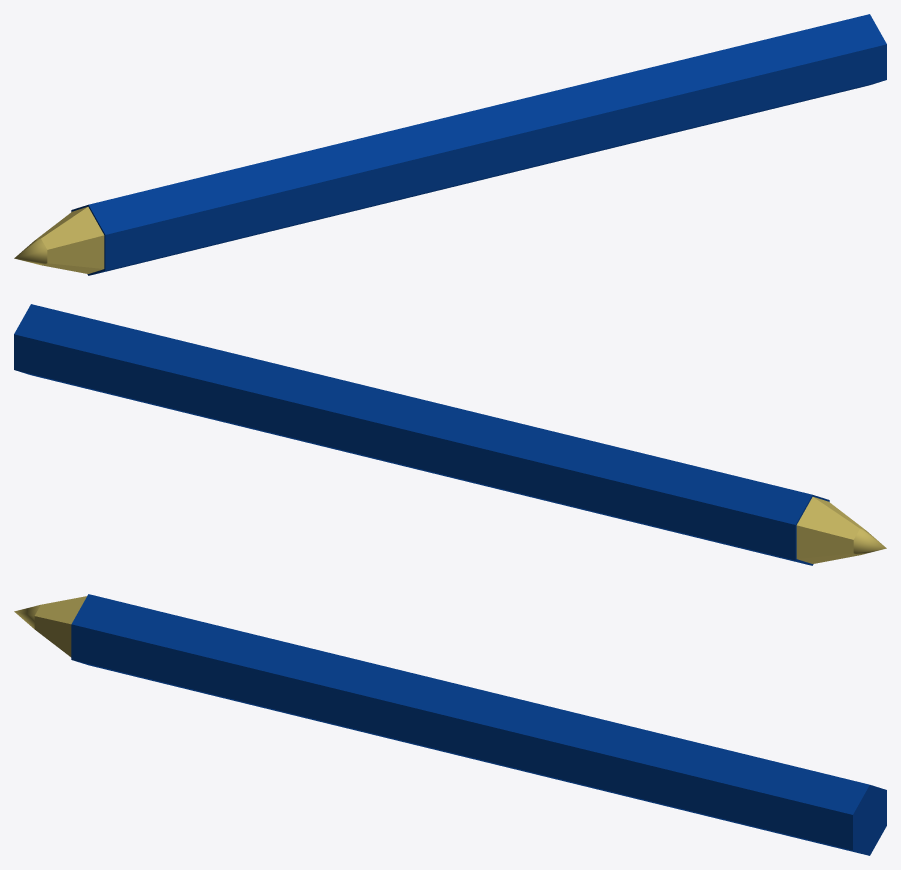
The model's file is pencil.fbx.
3 renders of one model, top to bottom at view 1: azimuth 30°, elevation 25°; view 2: azimuth 150°, elevation 25°; view 3: azimuth 330°, elevation 25°, orthographic.
Visible parts, largest first — view 1: office_stuff:pCylinder18, office_stuff:pCylinder19; view 2: office_stuff:pCylinder18, office_stuff:pCylinder19; view 3: office_stuff:pCylinder18, office_stuff:pCylinder19.
Boxes of the visible parts, x1,y1,x2,y2 form: office_stuff:pCylinder18: [71, 14, 886, 275]; office_stuff:pCylinder19: [14, 207, 104, 273]; office_stuff:pCylinder18: [14, 304, 829, 565]; office_stuff:pCylinder19: [796, 497, 886, 563]; office_stuff:pCylinder18: [71, 594, 886, 855]; office_stuff:pCylinder19: [14, 596, 86, 657].
Bounding box in the file's own units: 5.59 × 0.445 × 0.3854.
